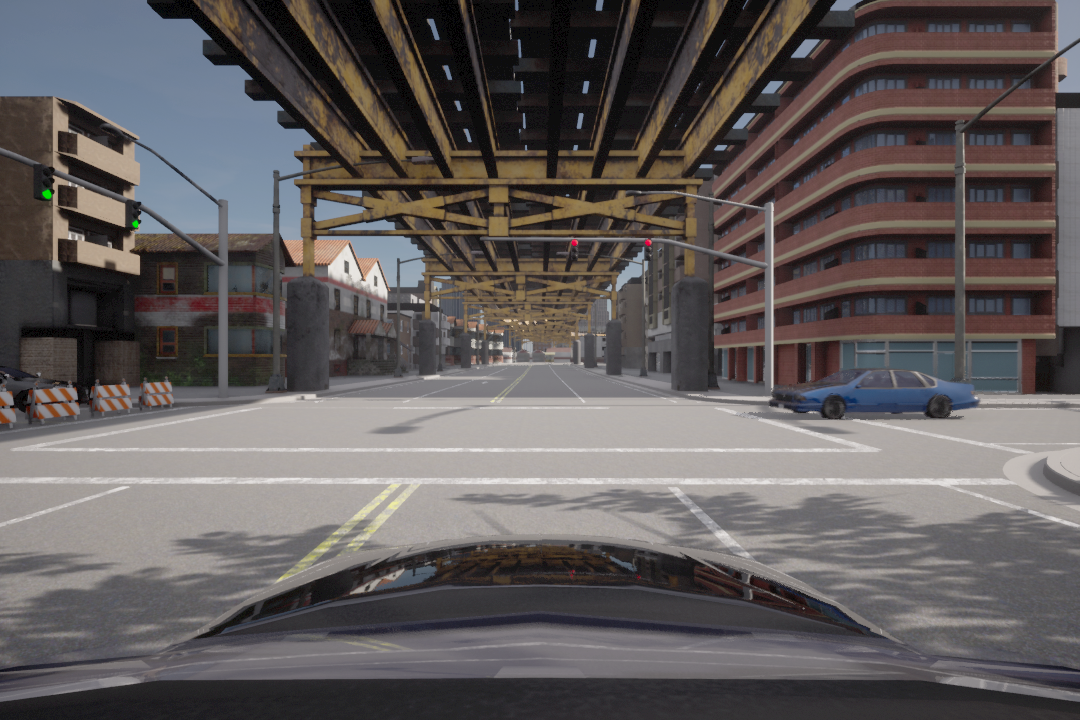TrafficLight: (29, 160, 56, 201), (121, 197, 144, 237), (567, 238, 582, 264), (642, 236, 655, 264)
